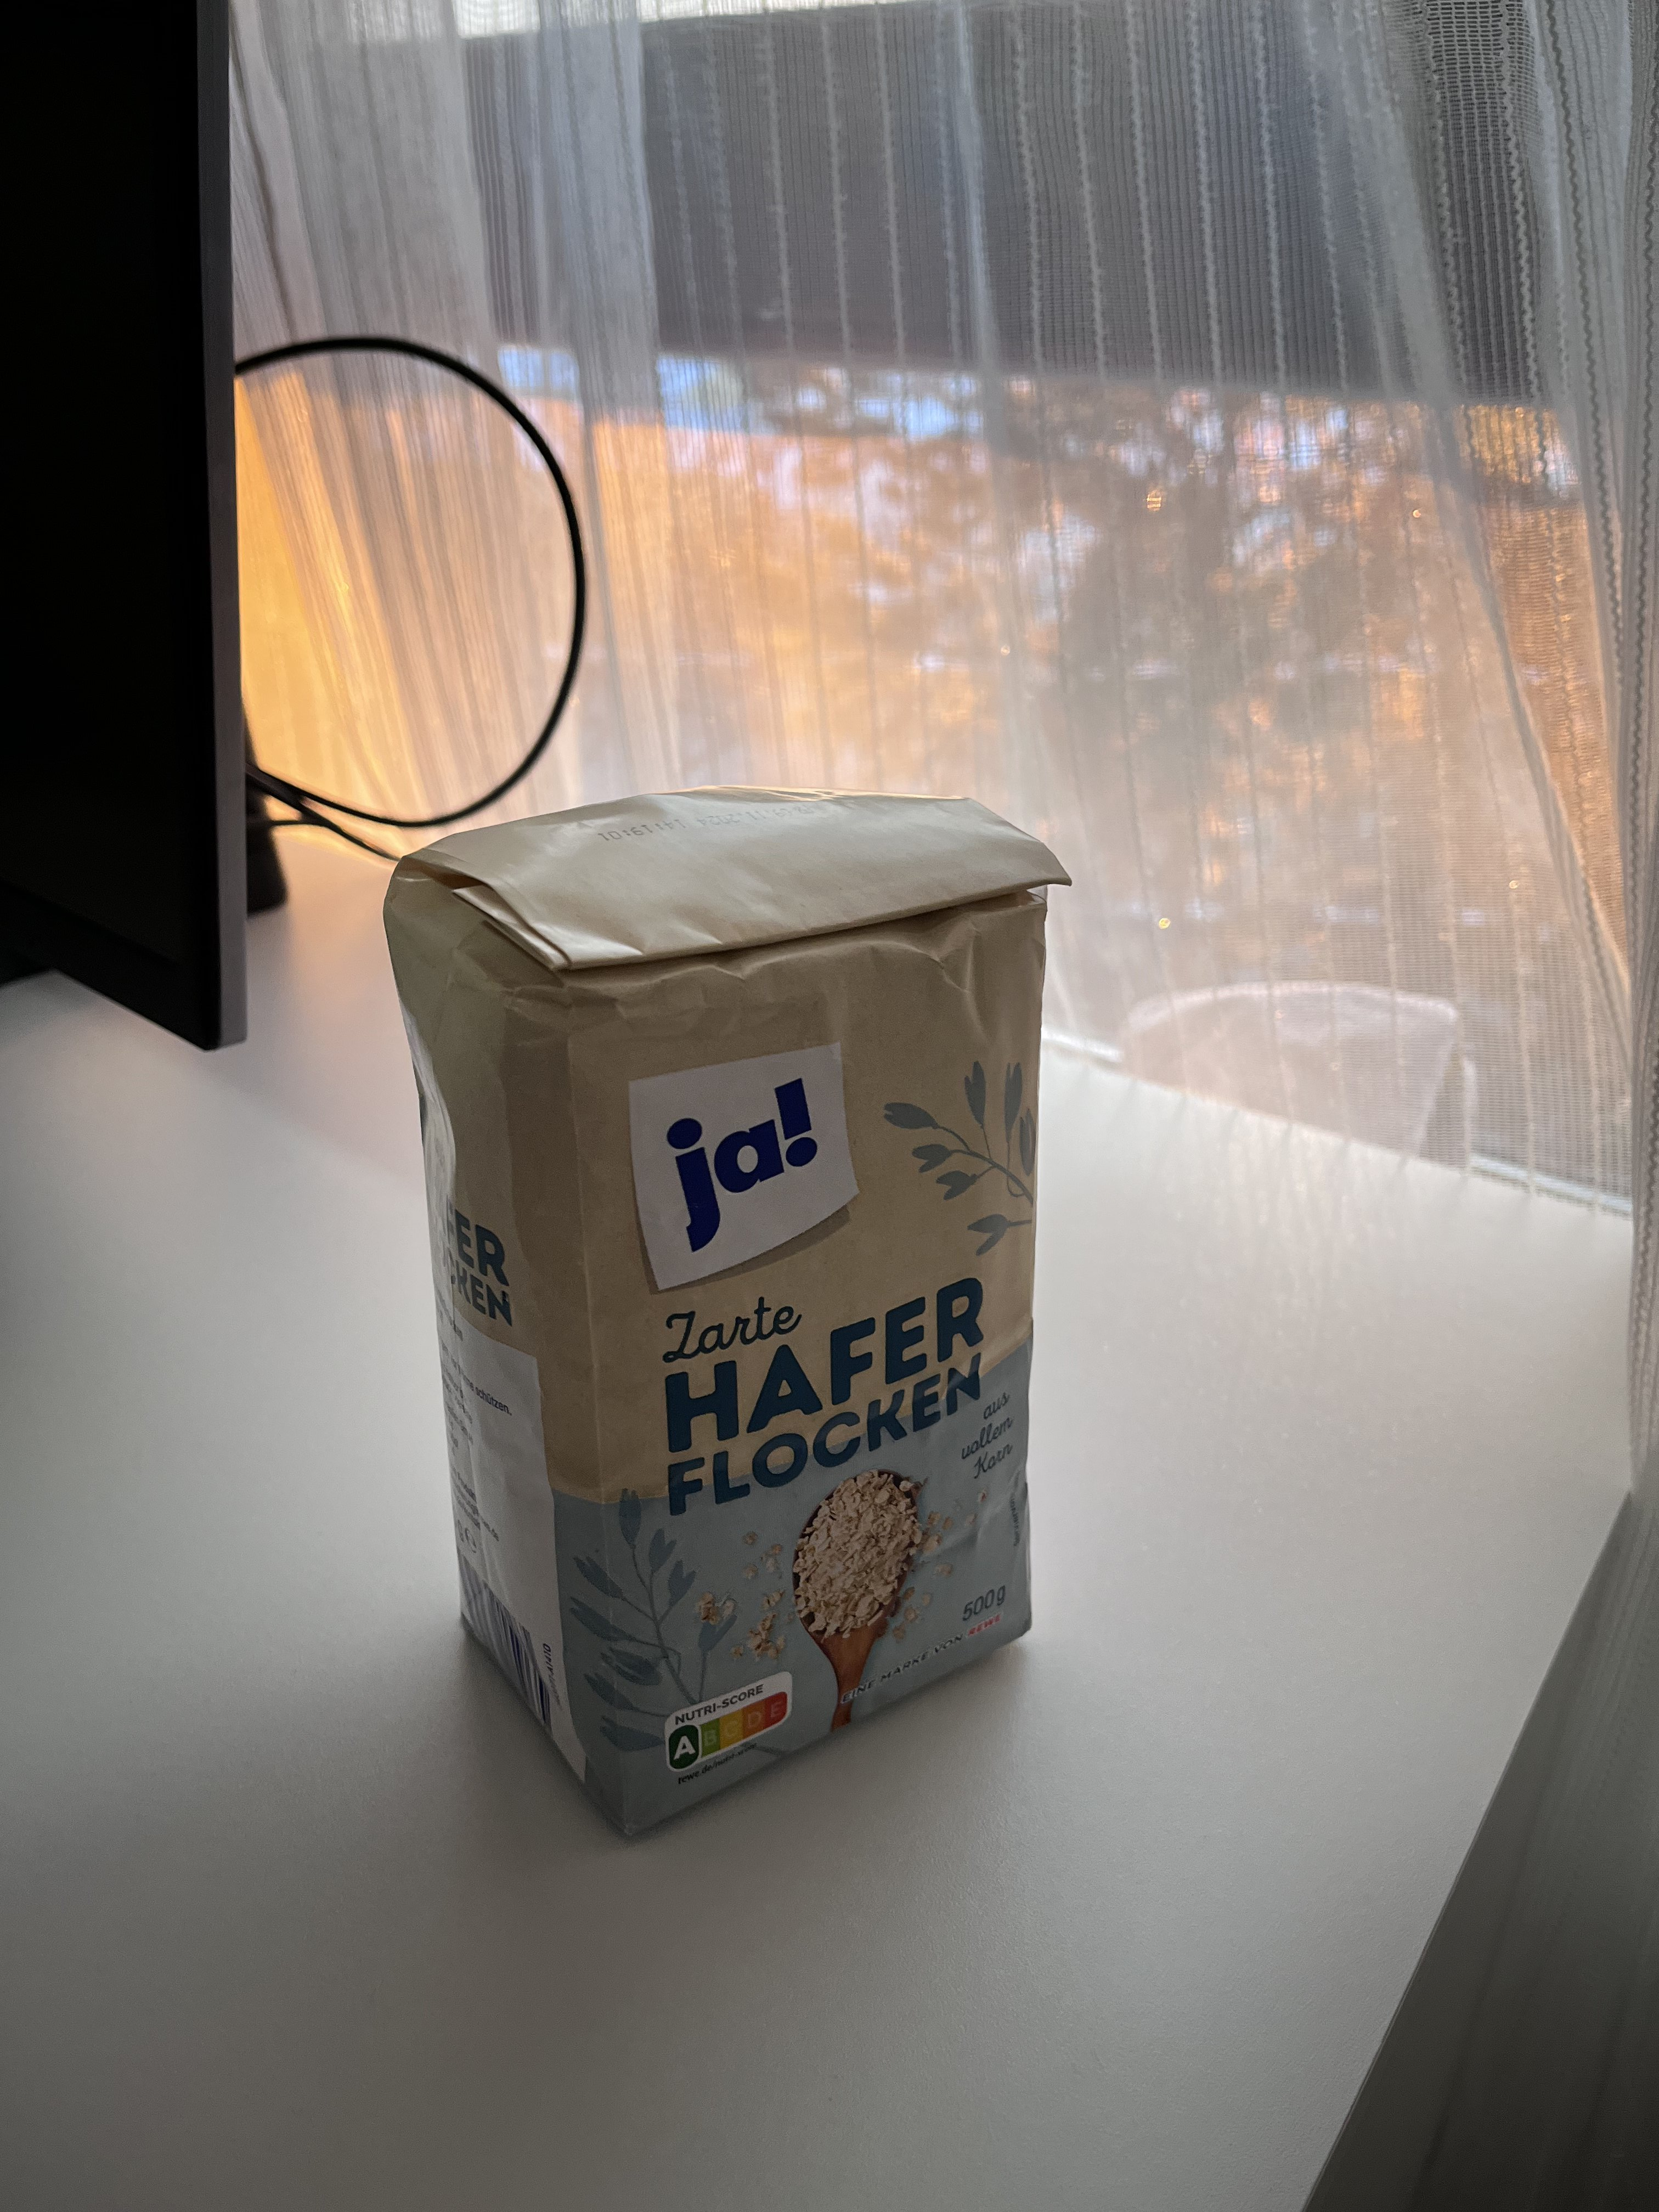haferflocken_ja: (385, 784, 1072, 1843)
